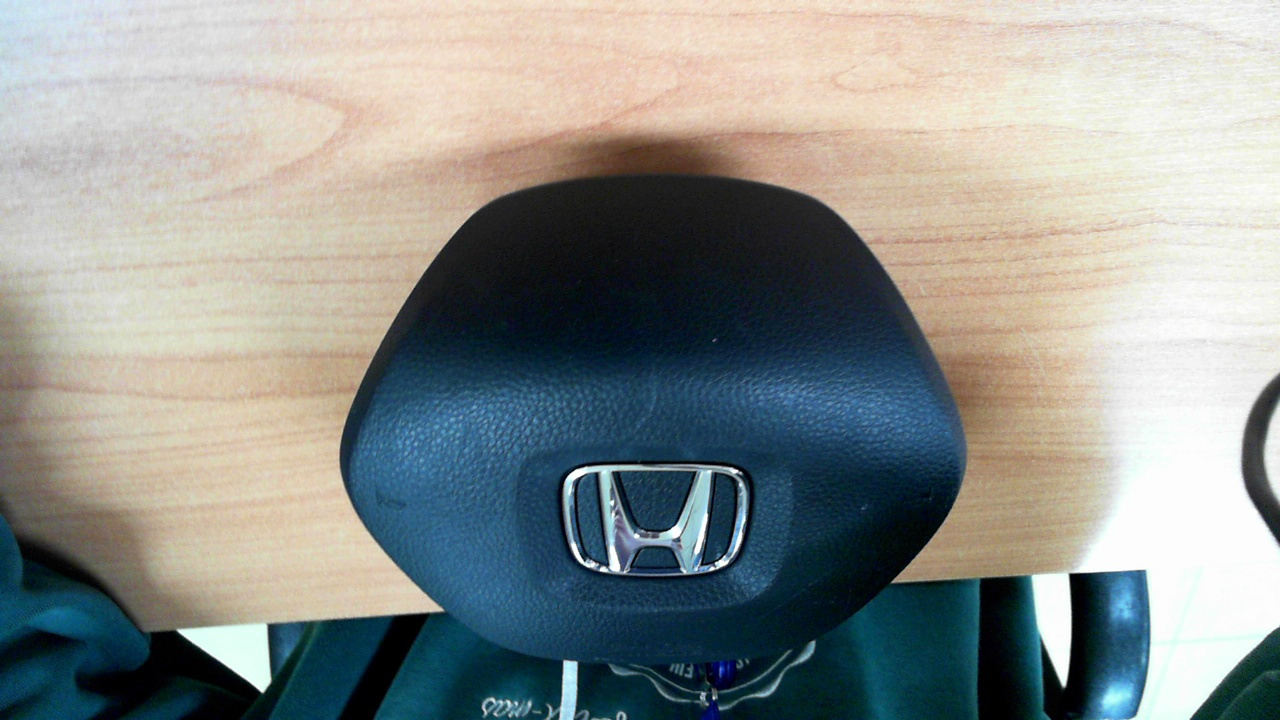Airbag: (335, 172, 966, 661)
Honda: (558, 460, 751, 578)
